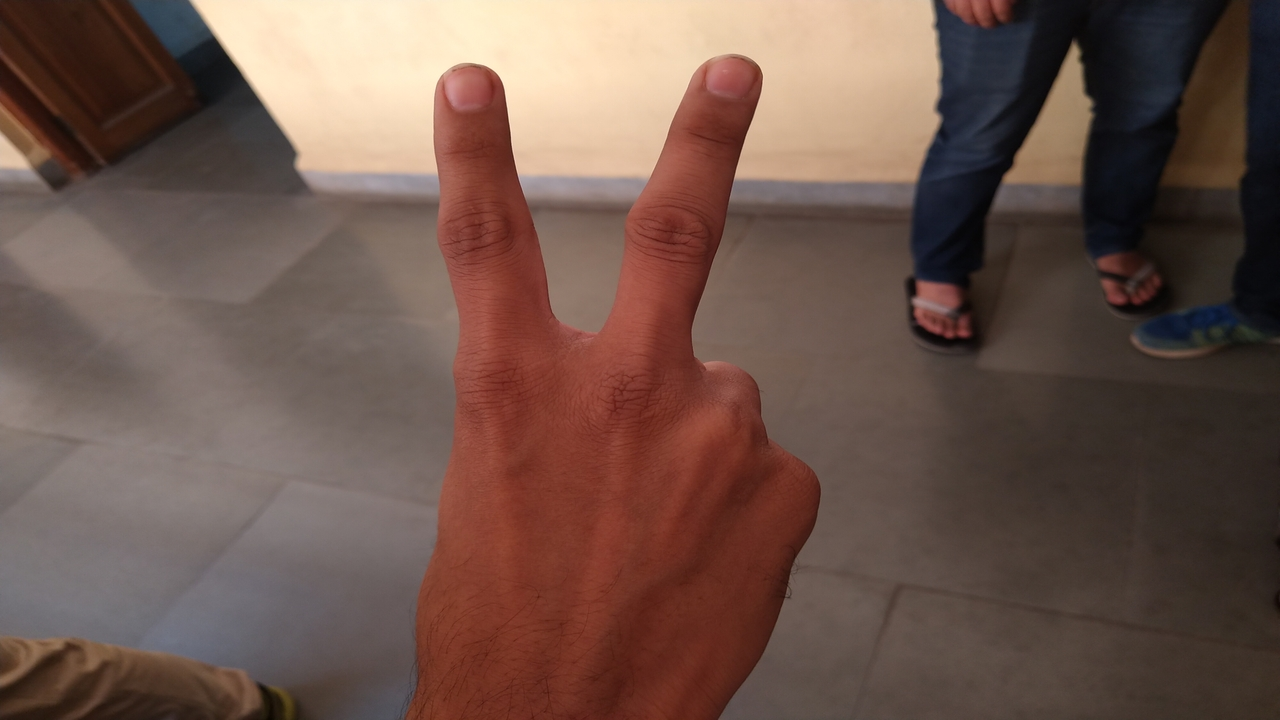fingertip: (430, 62, 504, 124), (694, 52, 766, 112)
